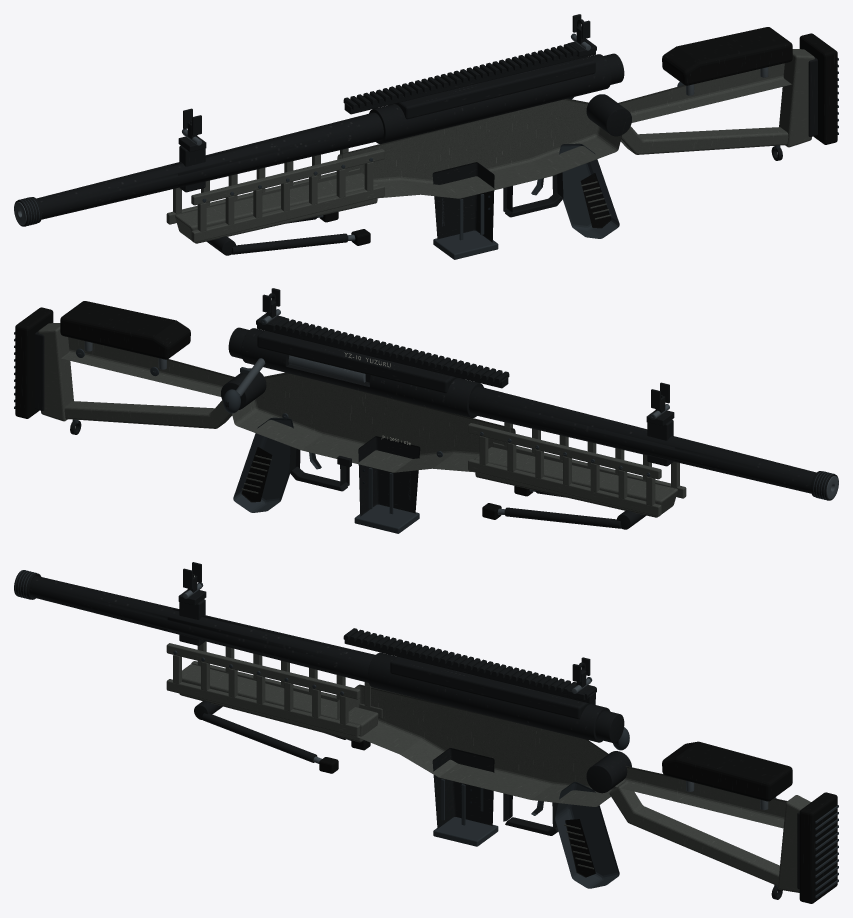
File: yuzuru_geometry.glb
3 views of the same model, one above another, from view 1: azimuth 30°, elevation 25°; view 2: azimuth 150°, elevation 25°; view 3: azimuth 330°, elevation 25° (orthographic).
Visible parts, largest first — view 1: BodyMesh, MagazineMesh, Iron_BodyMesh; view 2: BodyMesh, MagazineMesh, ActionMesh, Iron_BodyMesh; view 3: BodyMesh, MagazineMesh, Iron_BodyMesh, ActionMesh.
Boxes of the visible parts, x1,y1,x2,y2 form: BodyMesh: (14, 27, 838, 255); MagazineMesh: (432, 162, 498, 259); Iron_BodyMesh: (182, 14, 590, 145); BodyMesh: (14, 301, 838, 529); MagazineMesh: (354, 436, 420, 533); ActionMesh: (223, 327, 365, 413); Iron_BodyMesh: (260, 288, 669, 419); BodyMesh: (14, 570, 838, 903); MagazineMesh: (432, 748, 498, 846); Iron_BodyMesh: (183, 562, 592, 693); ActionMesh: (595, 710, 629, 750).
Size of the model in its own units: 1.25 by 0.3244 by 0.1352.
7 materials, 4 textured.
